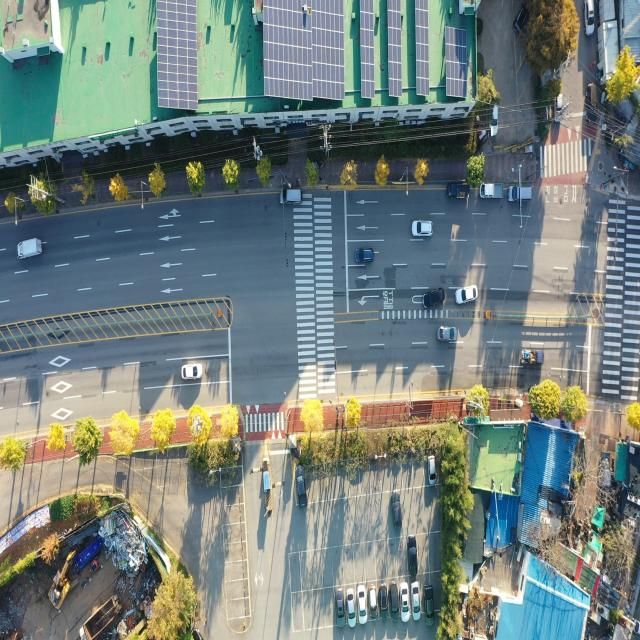car: (295, 460, 308, 509), (454, 284, 480, 308), (514, 2, 532, 34), (580, 0, 596, 36), (180, 362, 204, 386), (424, 285, 446, 310), (408, 533, 420, 577), (424, 582, 436, 626), (411, 218, 436, 238), (378, 580, 389, 625), (508, 186, 534, 205), (392, 490, 404, 531), (334, 587, 345, 631), (411, 577, 422, 621), (552, 89, 564, 127), (277, 188, 302, 206), (354, 245, 375, 266), (347, 584, 356, 633), (358, 584, 368, 628), (390, 579, 399, 624), (368, 582, 377, 626), (436, 324, 458, 342), (401, 577, 409, 624), (426, 453, 437, 486), (489, 100, 498, 138)
medium_truck: (76, 595, 119, 640)
small_truck: (16, 236, 44, 262), (444, 180, 471, 204), (478, 180, 504, 201), (520, 347, 544, 368), (587, 79, 597, 125)
